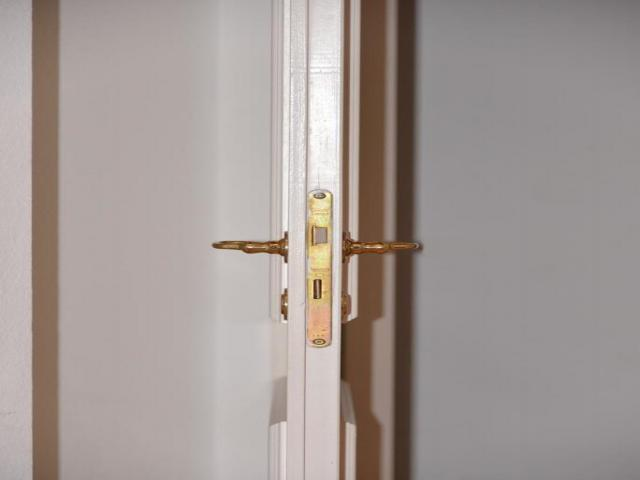Door-handle: (204, 226, 296, 319), (341, 225, 418, 328)
